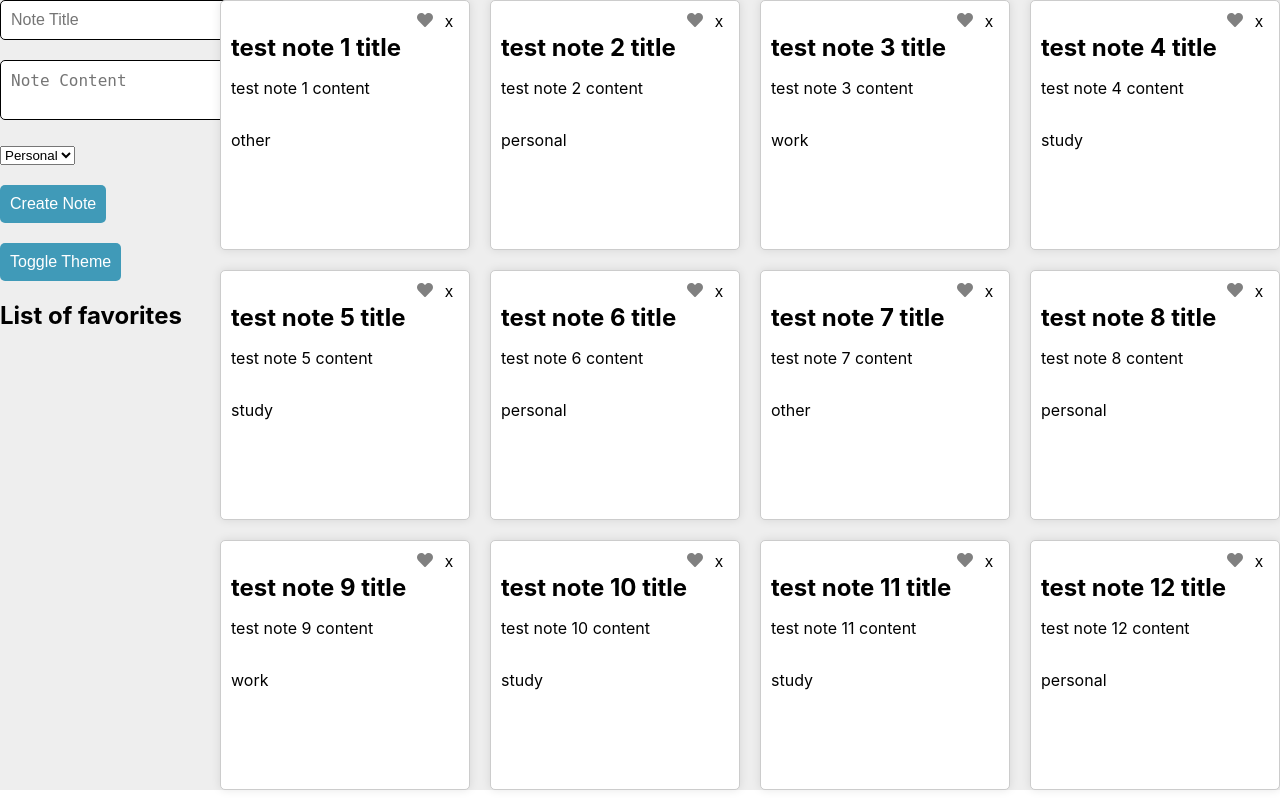
Create StickyNote › creates a new note
The image size is (1280, 800).
Type "New Note" into the field with placeholder "Note Title" at (114, 20), box [0,0,229,40]
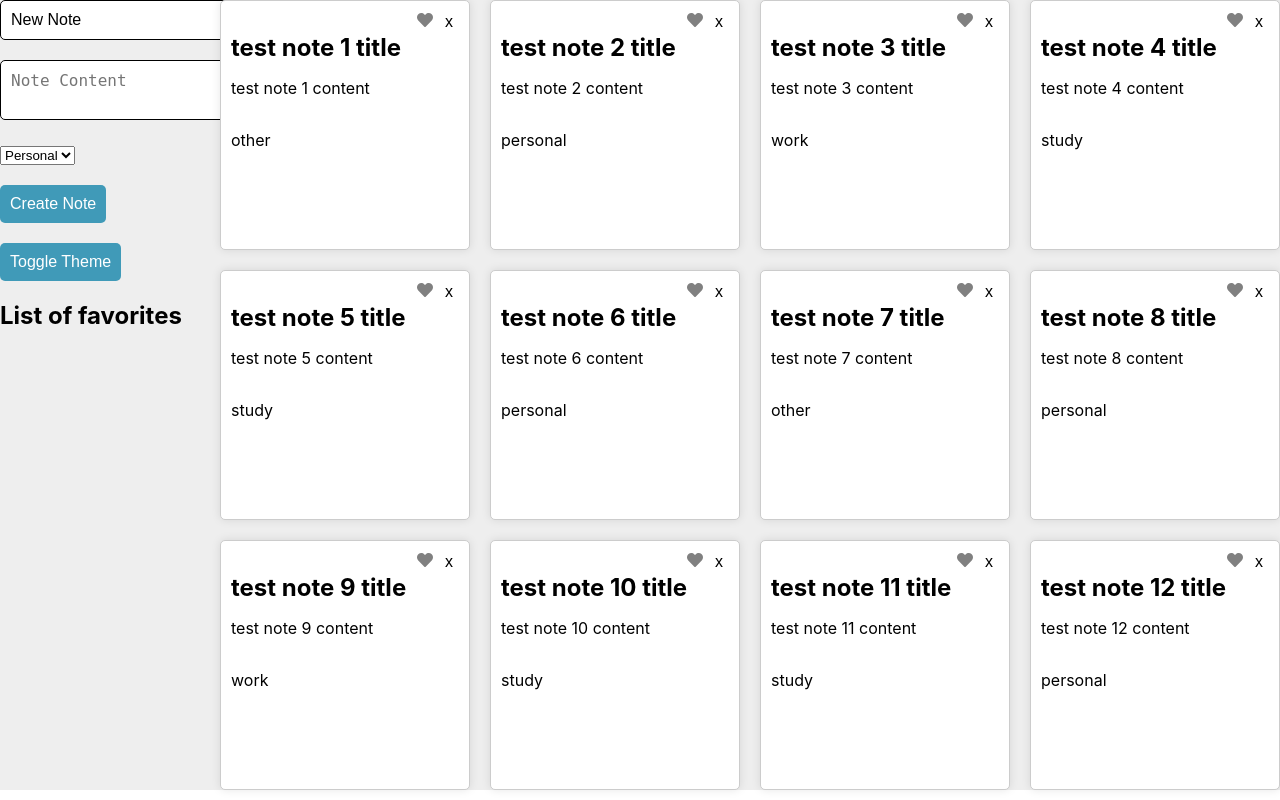
Type "Note content" into the text box with placeholder "Note Content" at (118, 90), box [0,60,237,120]
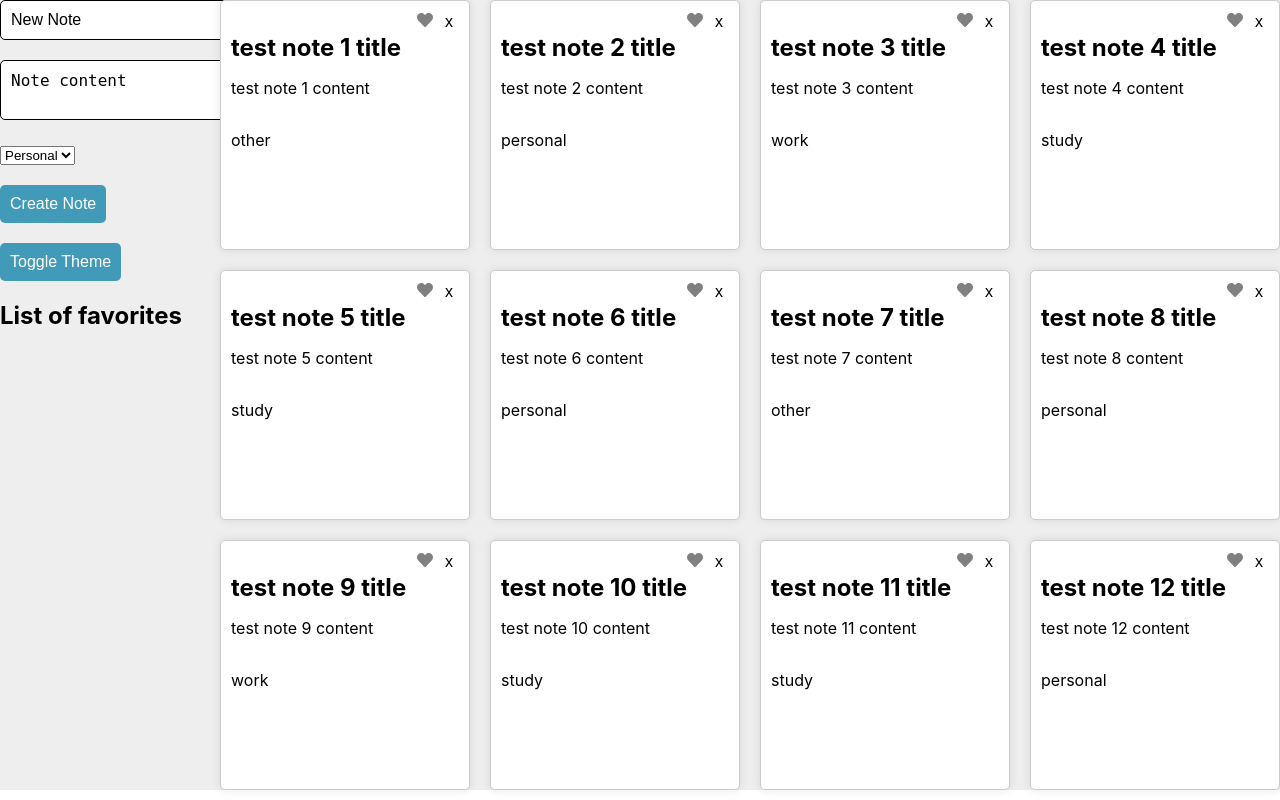
Click the button "Create Note" at (53, 204), box [0,185,106,223]
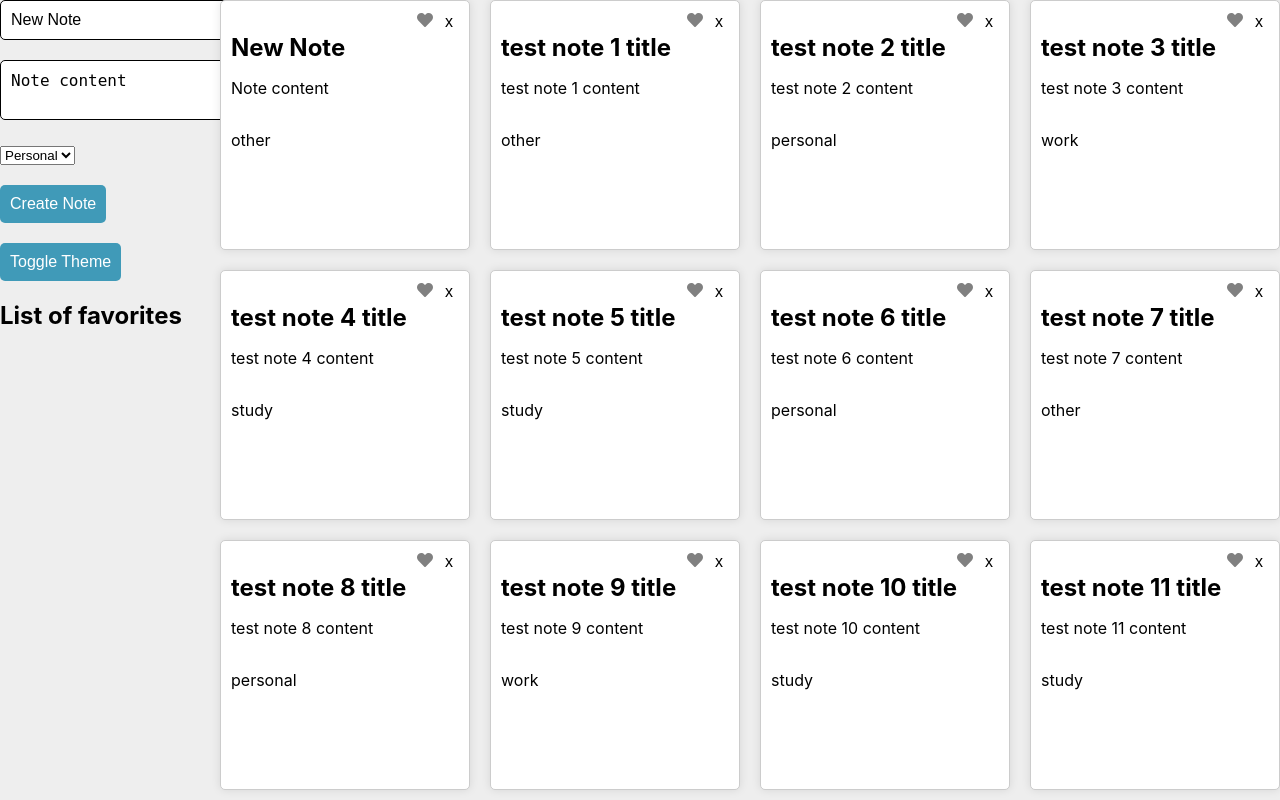
Now the heading "New Note" is shown, box [231,33,345,62]
Now the text box "Note content" is shown, box [231,78,329,98]
